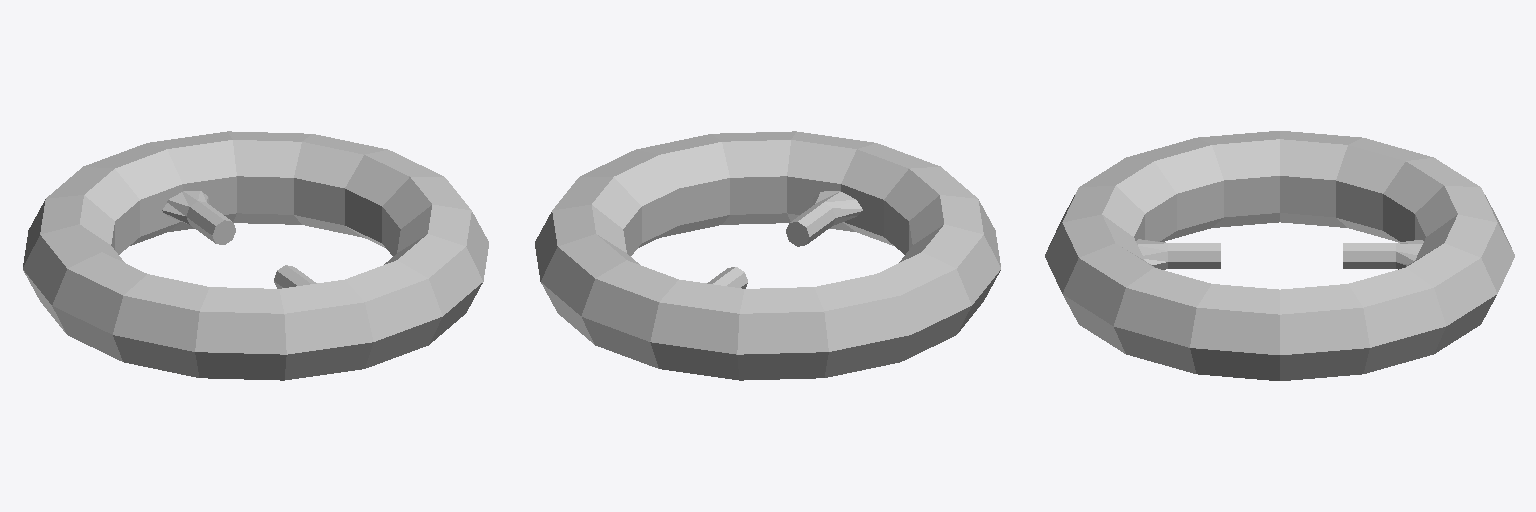
The model's file is StationRing.obj.
3 renders of one model, left to right at view 1: azimuth 30°, elevation 25°; view 2: azimuth 150°, elevation 25°; view 3: azimuth 270°, elevation 25°, orthographic.
Visible parts, largest first — view 1: StationRingSection_StationRing, SpokeYNeg_Spoke1, SpokeYPos_Spoke0; view 2: StationRingSection_StationRing, SpokeYPos_Spoke0, SpokeYNeg_Spoke1; view 3: StationRingSection_StationRing, SpokeYPos_Spoke0, SpokeYNeg_Spoke1.
Boxes of the visible parts, <box> form: StationRingSection_StationRing: <box>23,131,488,380</box>; SpokeYNeg_Spoke1: <box>162,191,235,244</box>; SpokeYPos_Spoke0: <box>274,265,316,288</box>; StationRingSection_StationRing: <box>535,131,1000,380</box>; SpokeYPos_Spoke0: <box>786,191,862,246</box>; SpokeYNeg_Spoke1: <box>707,267,747,288</box>; StationRingSection_StationRing: <box>1045,131,1514,380</box>; SpokeYPos_Spoke0: <box>1136,239,1220,269</box>; SpokeYNeg_Spoke1: <box>1343,240,1423,269</box>.
Size of the model in its own units: 53.98 by 10.52 by 53.98.